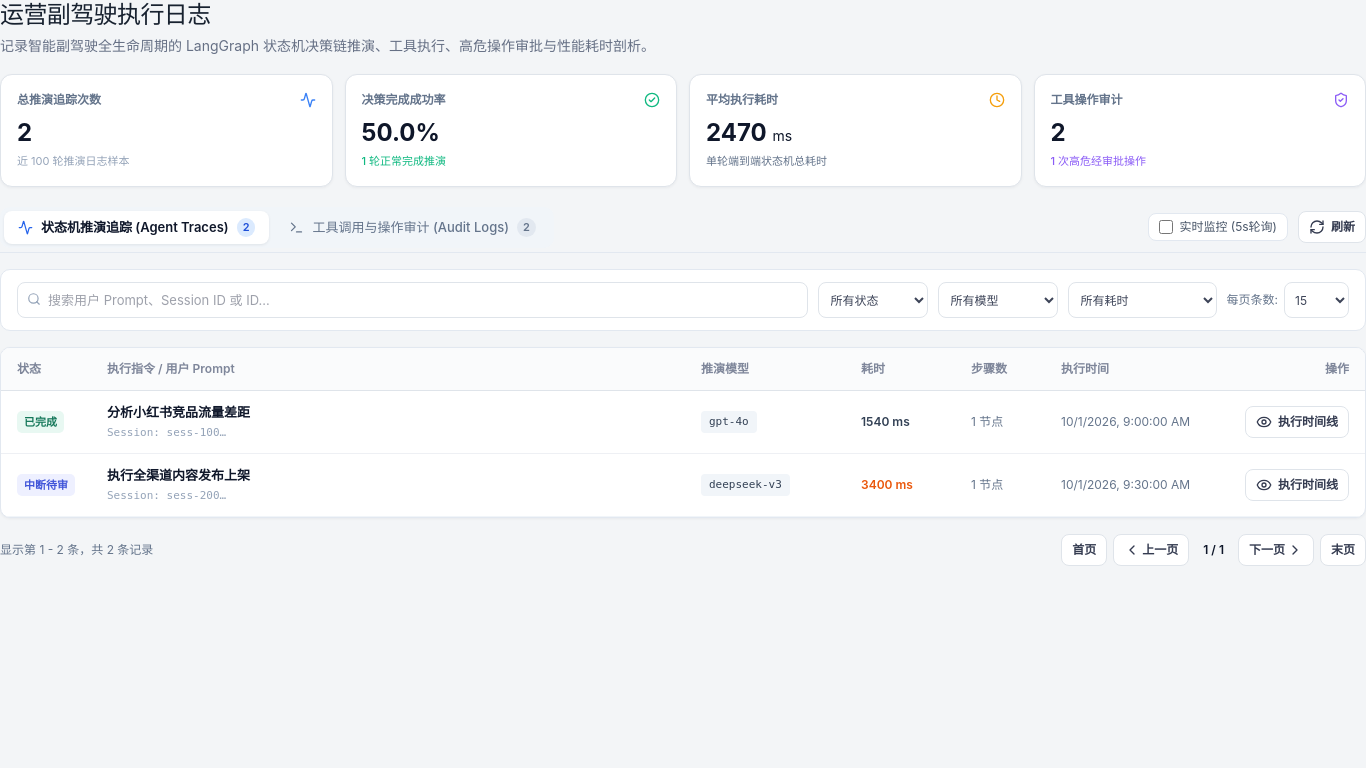
Test case: CopilotLogsView Component › opens and closes the audit log detail modal
Click the tab "工具调用与操作审计 (Audit Logs) 2". click: (413, 227)
box: [276, 210, 550, 244]
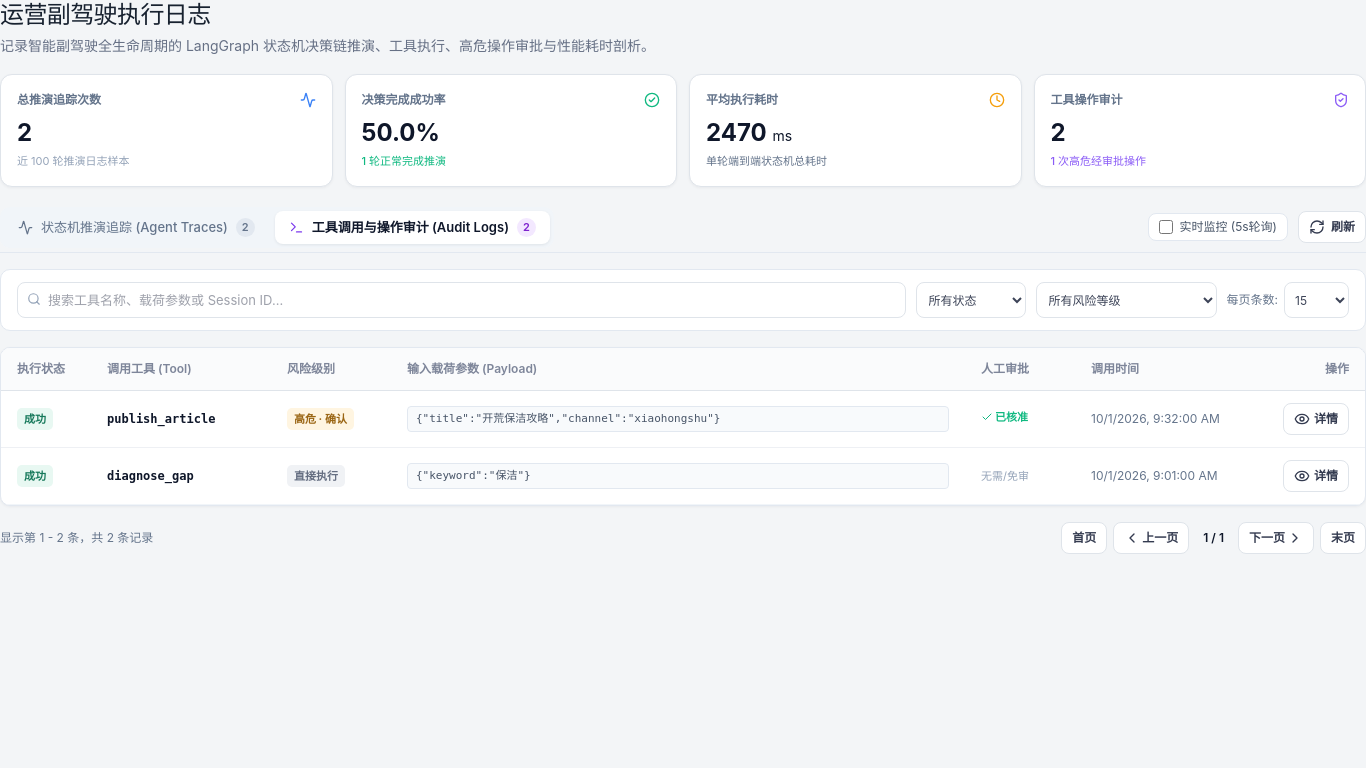
Check: the text "publish_article" is shown, box [107, 412, 215, 426]
# Click row or detail button
Click the button "详情" in the row of "publish_article". click: (1316, 419)
box: [1283, 403, 1349, 435]
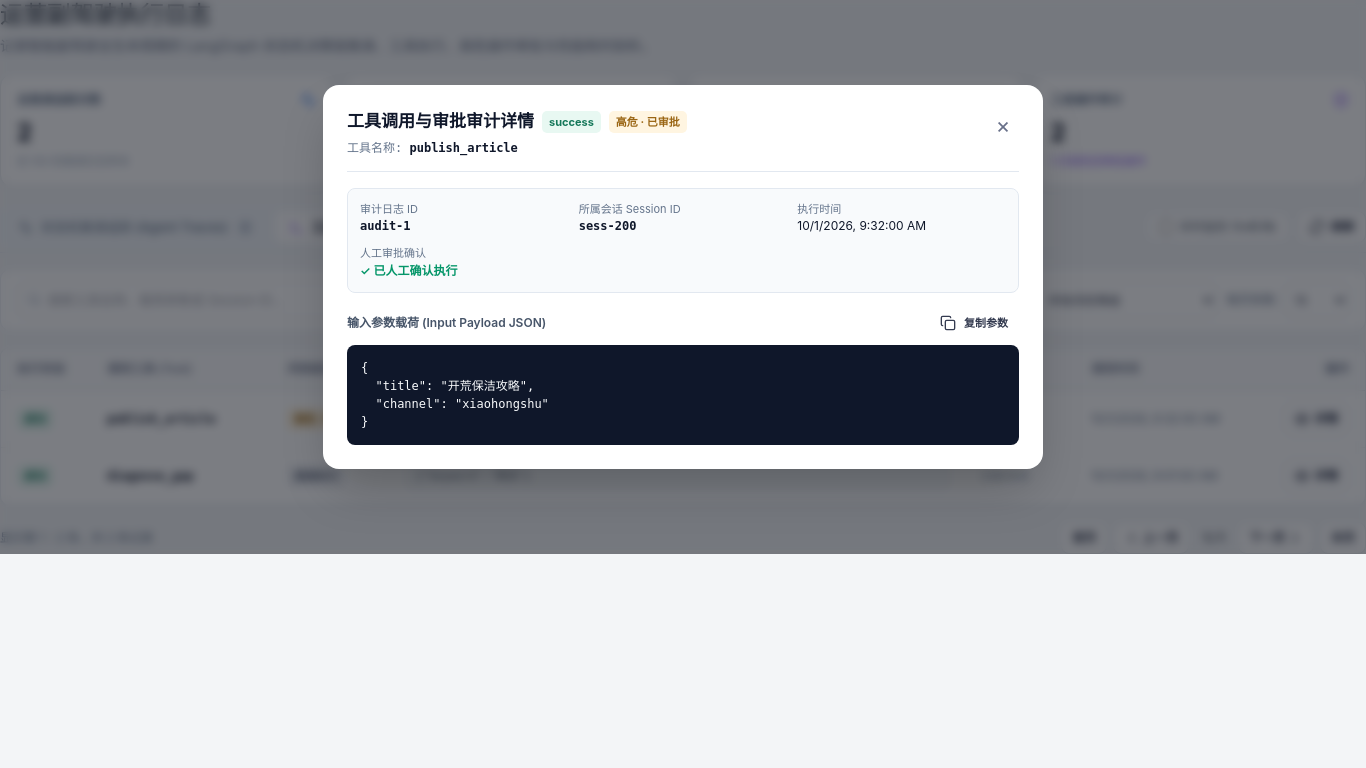
Check: the heading "工具调用与审批审计详情" is shown, box [347, 109, 534, 135]
Check: the text "输入参数载荷 (Input Payload JSON)" is shown, box [347, 314, 546, 332]
# Close modal
Click the button "×". click: (1003, 125)
box: [987, 109, 1019, 141]
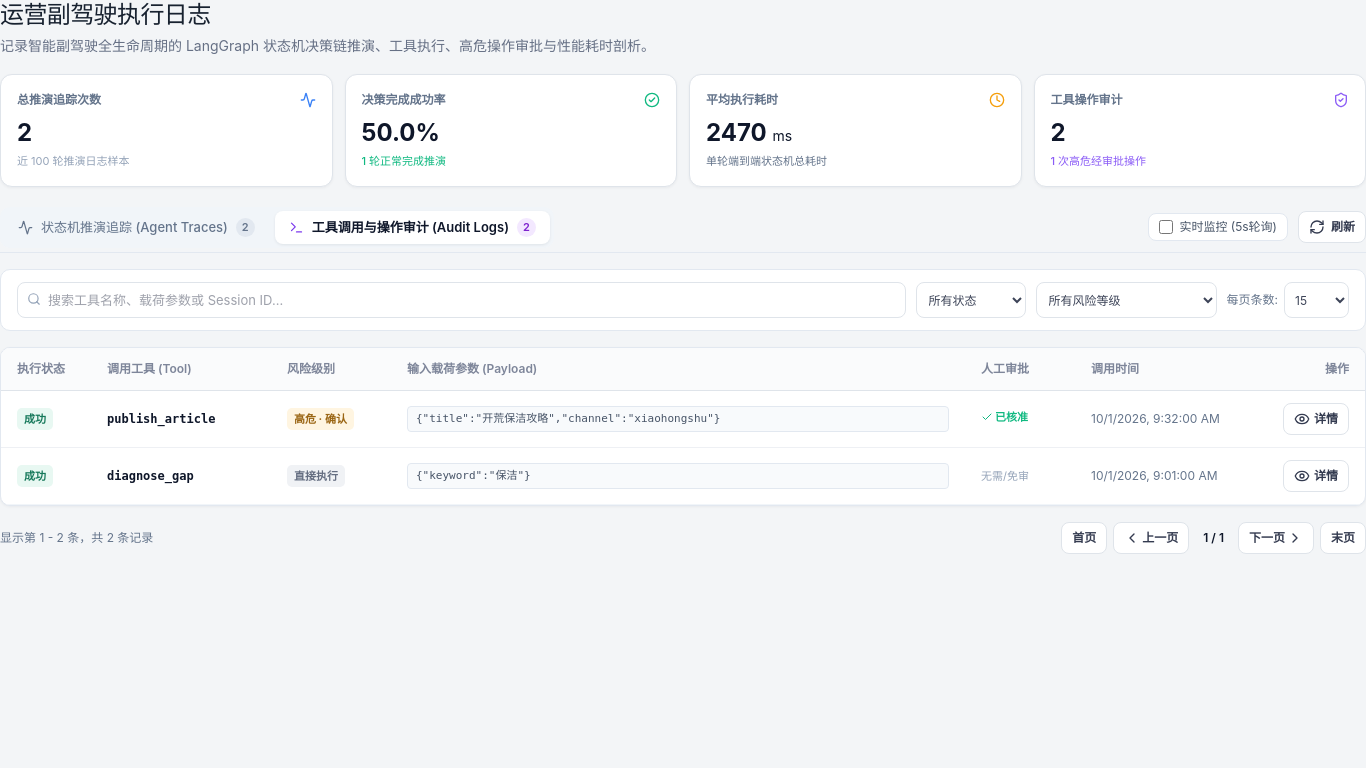
Check: the heading "工具调用与审批审计详情" is gone
